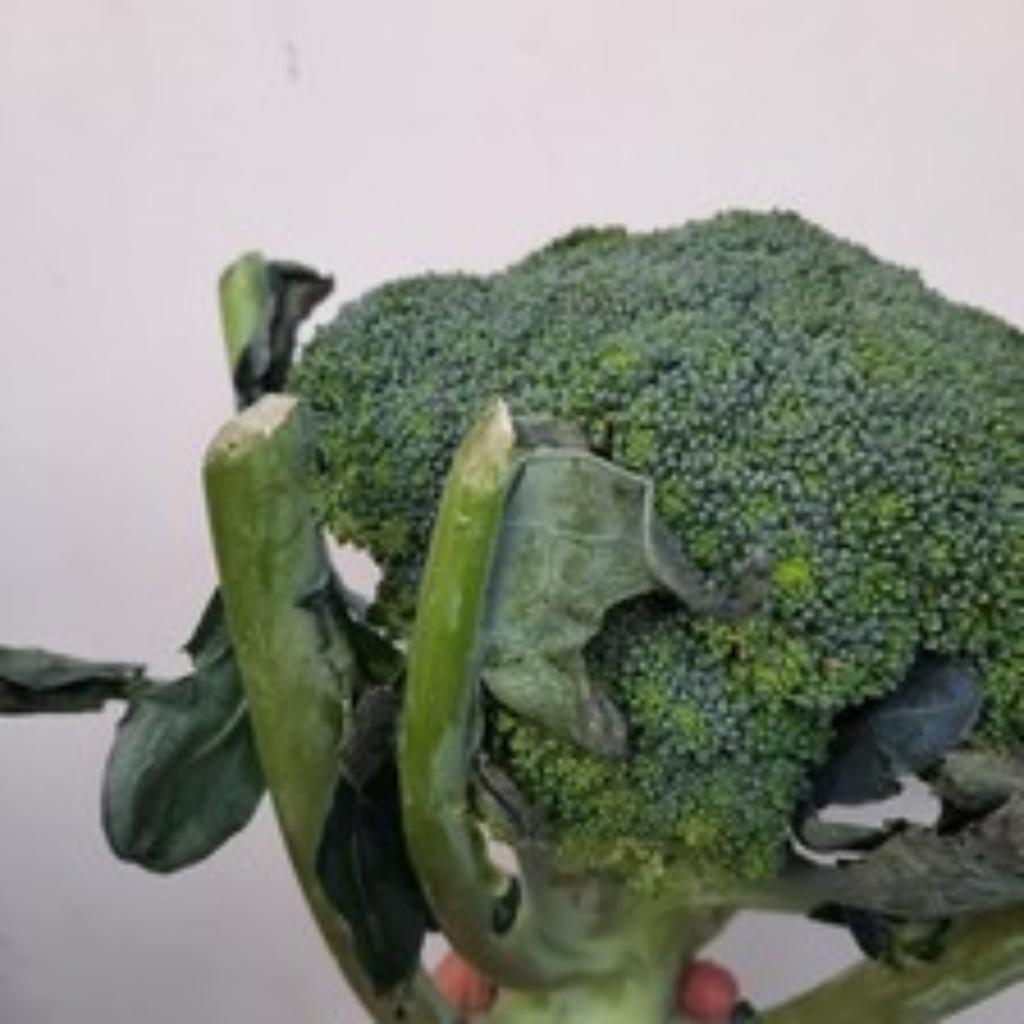Broccoli: (294, 212, 1024, 871), (294, 212, 1024, 869)
